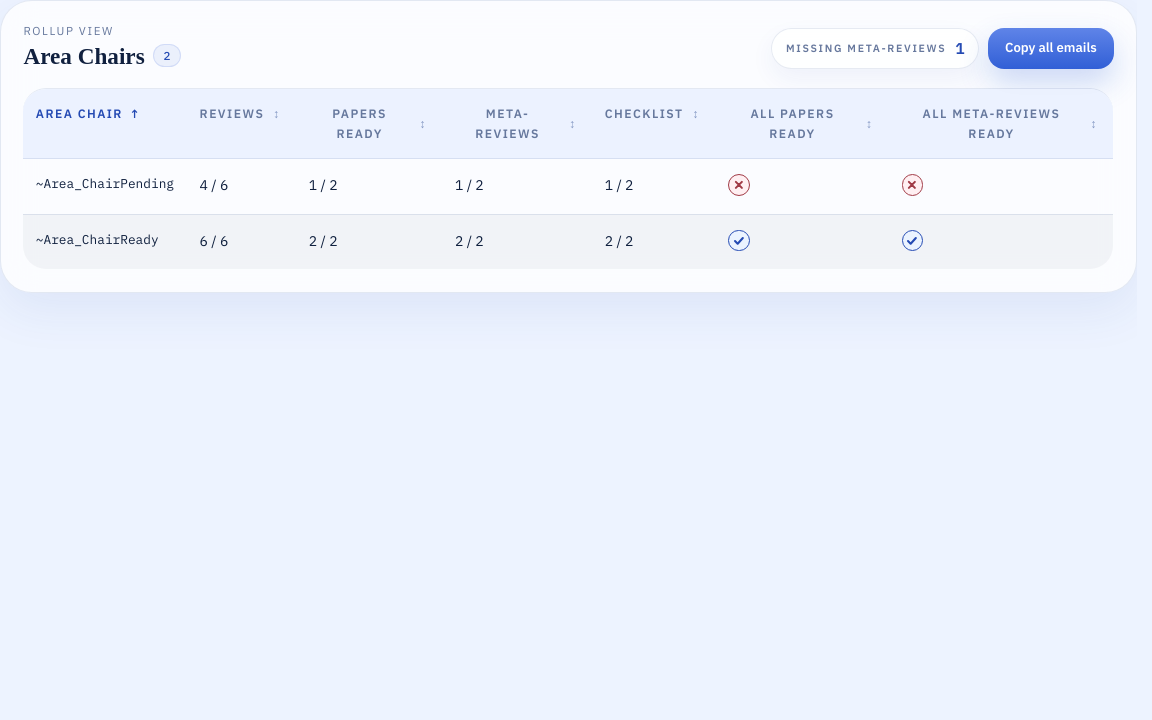
Test: ACDashboardPanel › reveals assigned papers and their stats when clicking a table row
Check: the text "A Paper Missing Reviews" is not shown
What coordinates should you click on to do the following:
click the text "~Area_ChairPending"
I would click on:
 (105, 186)
Its box is left=23, top=159, right=187, bottom=214.
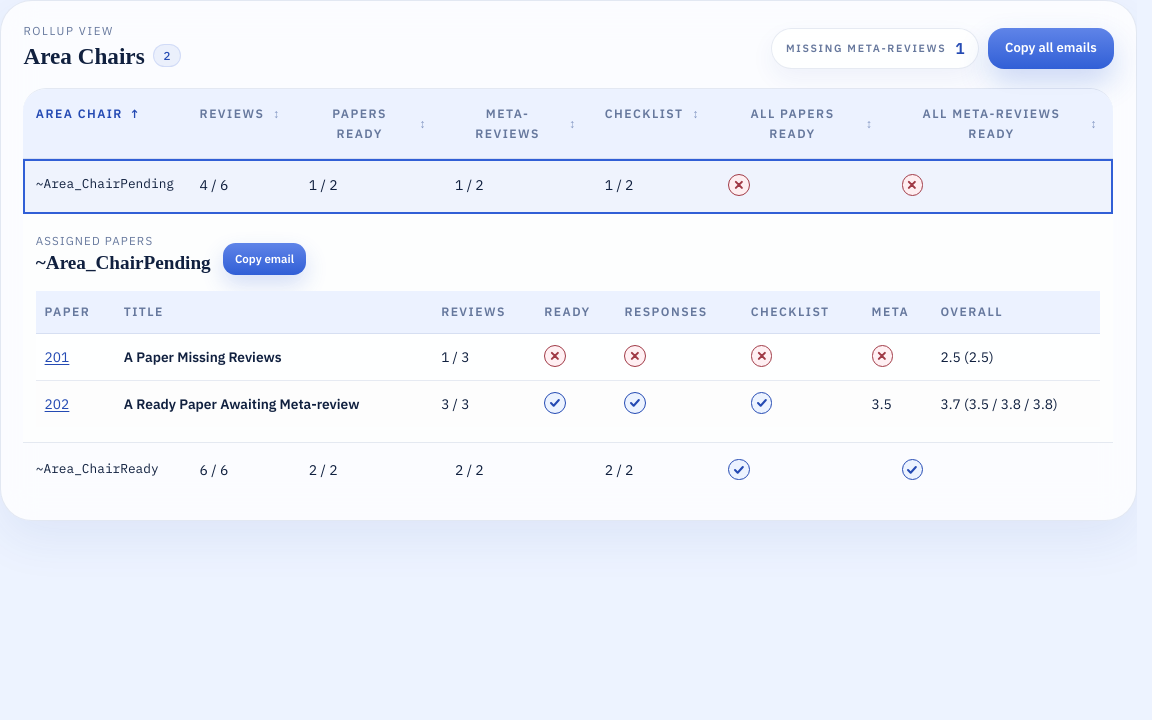
Check: the text "A Paper Missing Reviews" is shown, box left=124, top=348, right=282, bottom=367
Check: the text "A Ready Paper Awaiting Meta-review" is shown, box left=124, top=395, right=360, bottom=414
Check: the text "1 / 3" is shown, box left=433, top=334, right=536, bottom=381
What coordinates should you click on to do the following:
click the button with aria-label "Copy email for Pending Chair <pending@example.com>"
I would click on:
 (265, 259)
Its box is left=224, top=243, right=306, bottom=275.
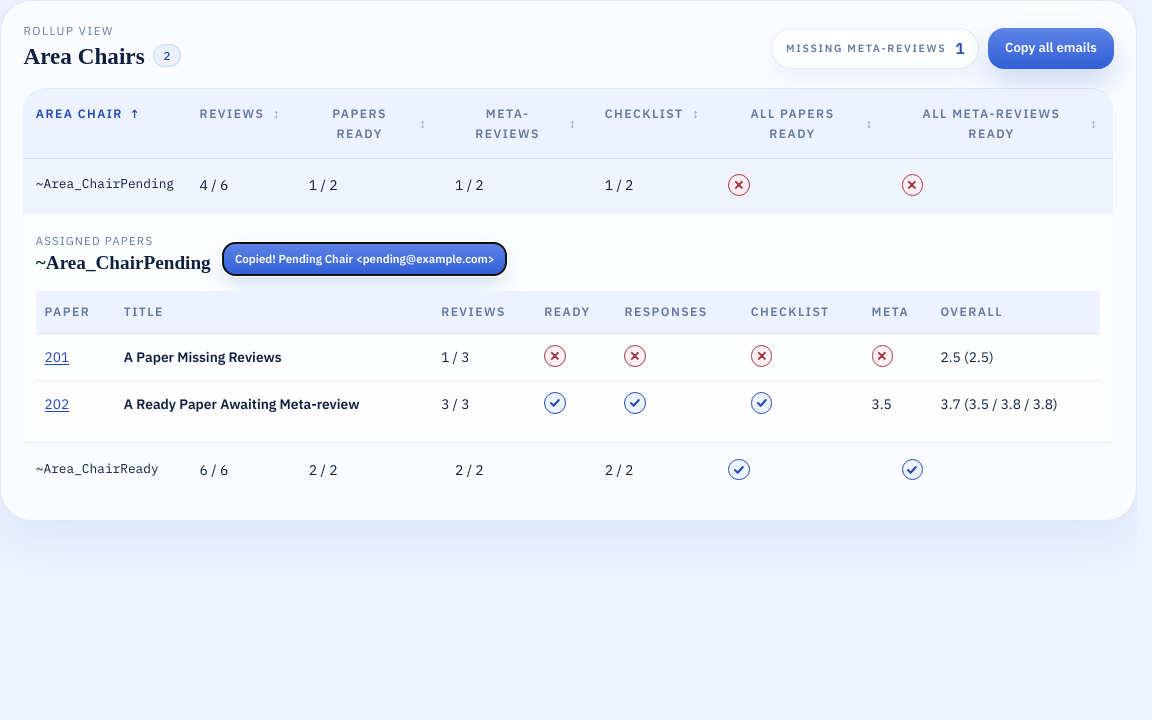
Check: the button with aria-label "Copy email for Pending Chair <pending@example.com>" reads "Copied! Pending Chair <pending@example.com>", box left=224, top=243, right=507, bottom=275
